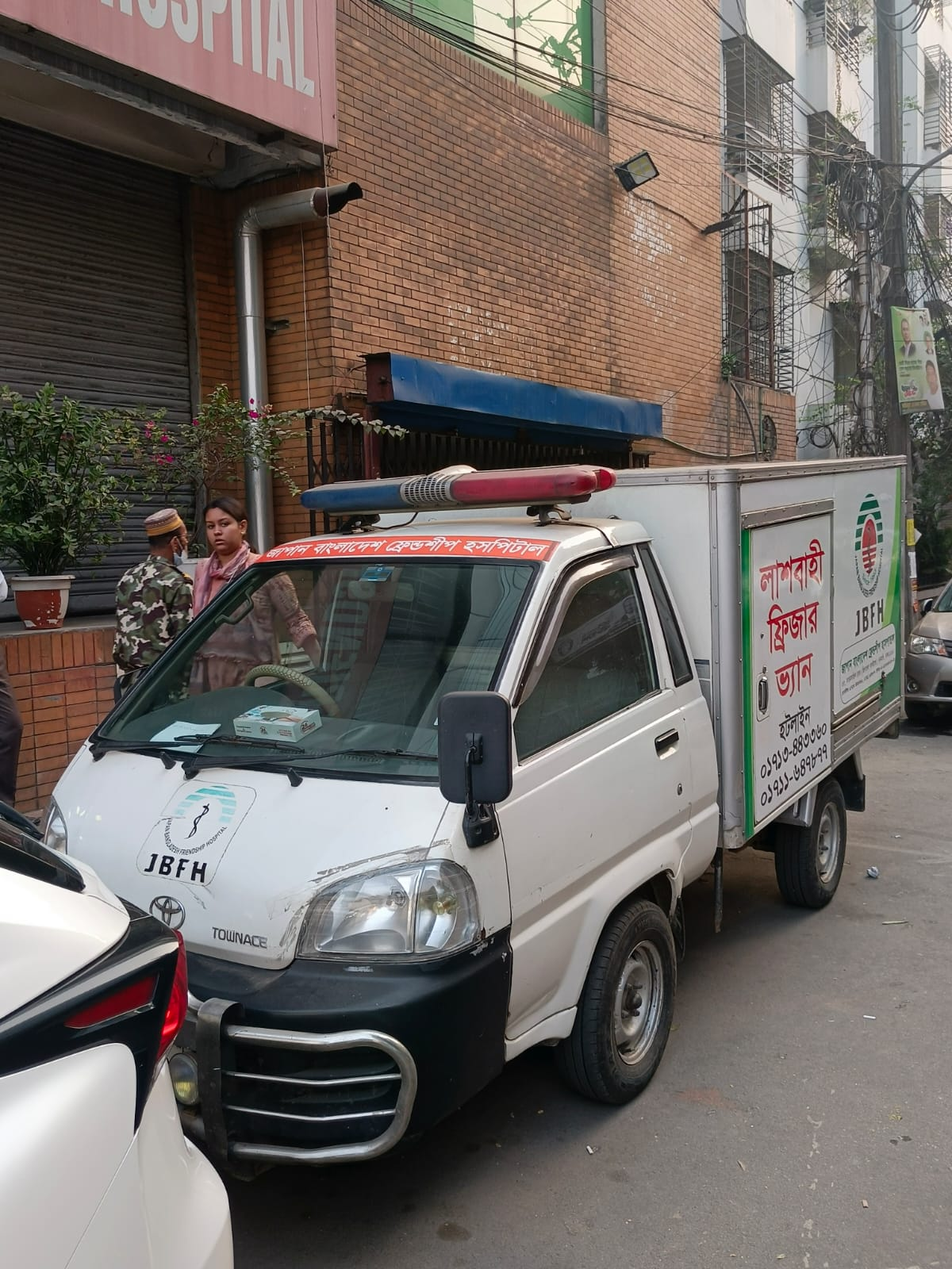Ambulance: (24, 438, 915, 1208)
